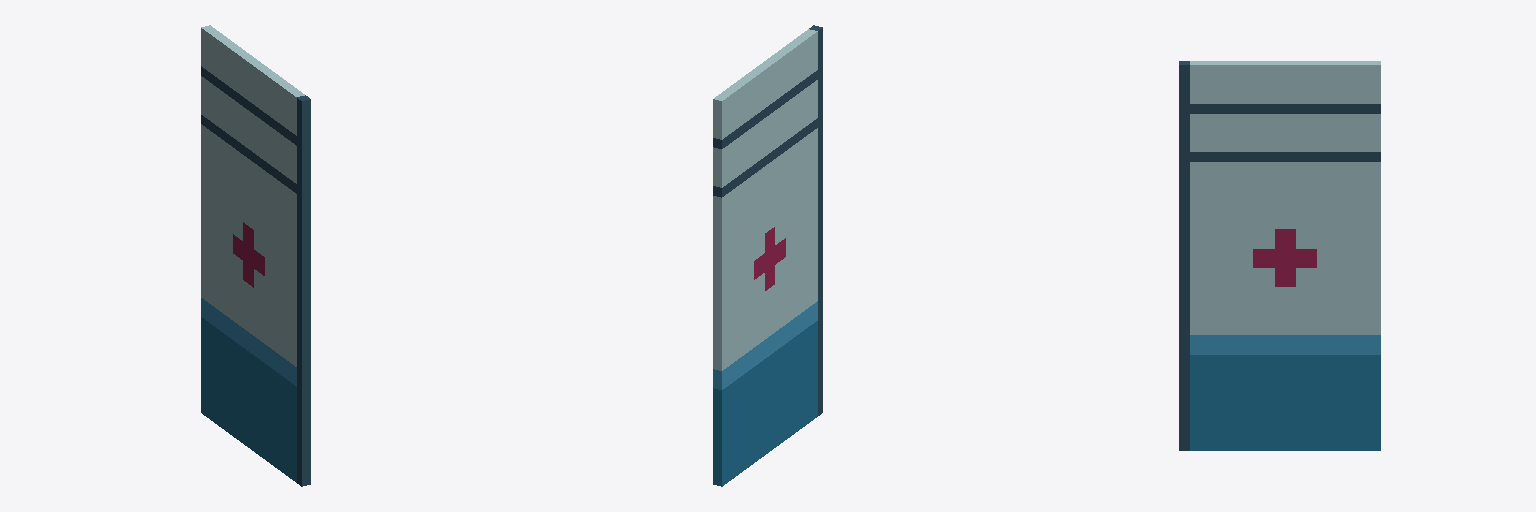
3 views of the same model, side by side, from view 1: azimuth 30°, elevation 25°; view 2: azimuth 150°, elevation 25°; view 3: azimuth 270°, elevation 25° (orthographic).
Visible parts, largest first — view 1: object 1; view 2: object 1; view 3: object 1.
Part boxes in pixels (left/top/right/bottom): object 1: left=201, top=25, right=310, bottom=486; object 1: left=713, top=25, right=822, bottom=486; object 1: left=1179, top=61, right=1380, bottom=450.
Bounding box in the file's own units: 0.1 × 4 × 1.9.
Materials: 1 (1 with a texture image).